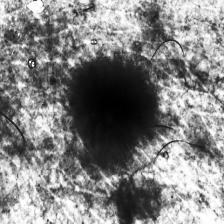Benign Marking or Mole: (66, 65, 158, 147)
